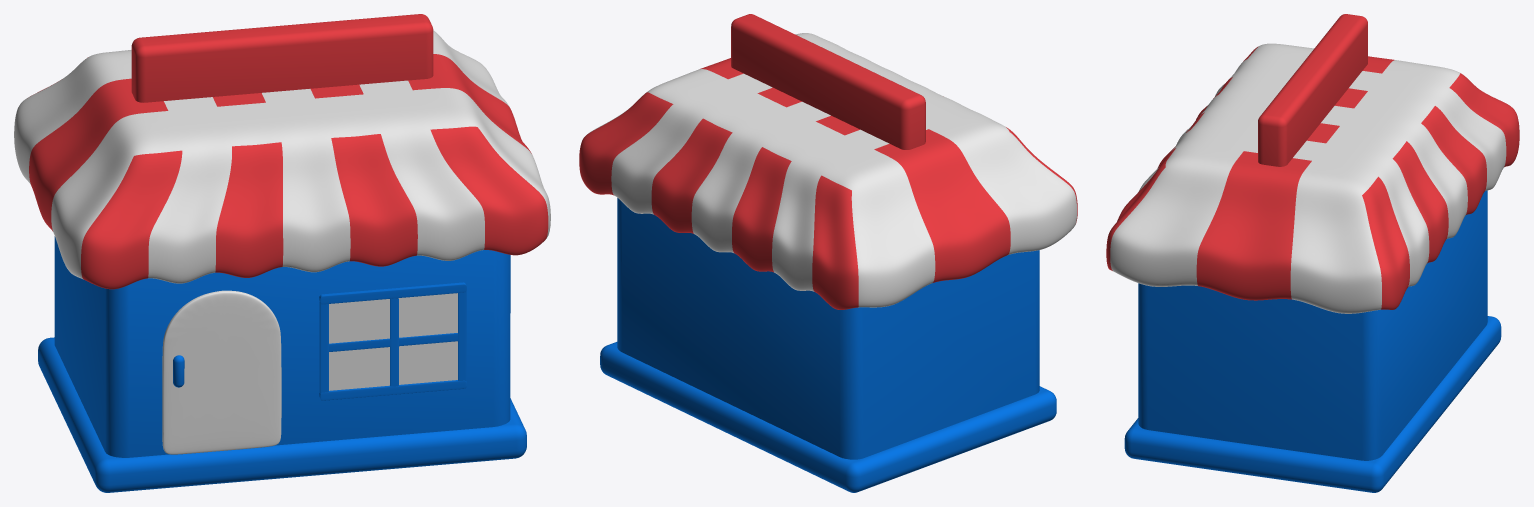
The model's file is store-3d-animated-icon-149092010045.glb.
The picture shows the model from 3 angles, left to right: view 1: azimuth 30°, elevation 25°; view 2: azimuth 150°, elevation 25°; view 3: azimuth 270°, elevation 25°; orthographic projection. The views are drawn at different scales.
Parts seen in each view (by area): view 1: Cube.001, Cube, Cube.003, Cube.002, Plane, Plane.001; view 2: Cube.001, Cube, Cube.002, Cube.003; view 3: Cube.001, Cube, Cube.002, Cube.003.
Boxes of the visible parts, x1,y1,x2,y2 form: Cube.001: (14,30,550,289); Cube: (54,236,510,457); Cube.003: (131,14,433,102); Cube.002: (38,337,526,492); Plane: (162,290,281,454); Plane.001: (319,282,466,400); Cube.001: (579,33,1077,309); Cube: (617,198,1039,459); Cube.002: (600,342,1056,492); Cube.003: (731,14,925,149); Cube.001: (1106,43,1519,313); Cube: (1138,190,1487,460); Cube.002: (1124,316,1501,492); Cube.003: (1258,14,1367,166).
Bounding box in the file's own units: 3.08 × 2.34 × 2.6.
